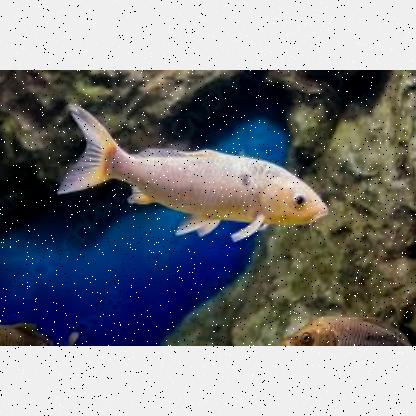ikan-mas: (64, 102, 330, 232), (284, 314, 416, 344)
